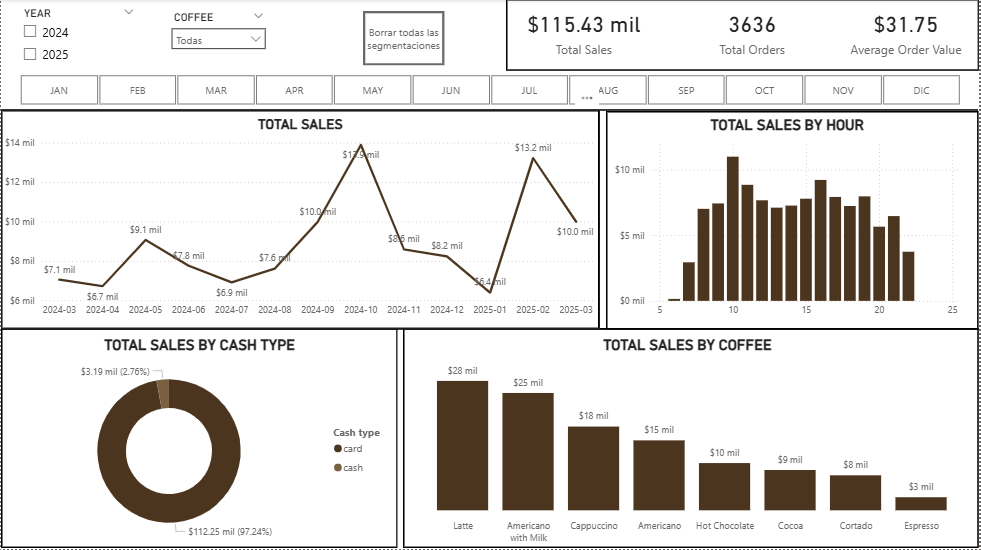

This screenshot's page, from the dashboard's own definition file:
{"tool":"powerbi","page":{"name":"Página 1","canvas":[1280,720],"ordinal":0},"visuals":[{"type":"card","fields":{"Values":["DateTable.Total Sales"]},"box":[675.1,0,175.1,82.6],"z":0},{"type":"card","fields":{"Values":["DateTable.Total Orders"]},"box":[910.3,0,147.2,82.6],"z":1000},{"type":"card","fields":{"Values":["DateTable.Average Order Value"]},"box":[1089,0,191.2,82.6],"z":2000},{"type":"lineChart","title":"TOTAL SALES","fields":{"Category":["DateTable.YearMonth"],"Y":["DateTable.Total Sales"]},"box":[0,152.7,783.5,271.4],"z":3000},{"type":"columnChart","title":"TOTAL SALES BY COFFEE","fields":{"Category":["cleaned_data.coffee_name"],"Y":["DateTable.Total Sales"]},"box":[518.9,440.8,760.4,279.2],"z":4000},{"type":"donutChart","title":"TOTAL SALES BY CASH TYPE","fields":{"Category":["cleaned_data.cash_type"],"Y":["DateTable.Total Sales"]},"box":[0,440.8,519.8,279.2],"z":5000},{"type":"clusteredColumnChart","title":"TOTAL SALES BY HOUR","fields":{"Category":["cleaned_data.hour"],"Y":["DateTable.Total Sales"]},"box":[799,152.6,461.4,272],"z":6000},{"type":"slicer","fields":{"Values":["cleaned_data.coffee_name"]},"box":[213.2,9.9,142.9,82.4],"z":7000},{"type":"shape","box":[791.8,146.2,487.8,286.5],"z":8000},{"type":"shape","box":[0,431.3,519.4,288.1],"z":9000},{"type":"slicer","fields":{"Values":["DateTable.Year"]},"box":[16.5,5.5,169.2,91.2],"z":10000},{"type":"slicer","fields":{"Values":["TablaMeses.MesAbreviado"]},"box":[0,93.4,1279.3,52.1],"z":11000},{"type":"shape","box":[0,422,1279.1,20.9],"z":12000},{"type":"shape","box":[0,135.2,1279.1,20.9],"z":13000},{"type":"shape","box":[660.6,0,619.4,94],"z":14000},{"type":"actionButton","box":[473.6,15.4,106.6,71.4],"z":15000},{"type":"shape","box":[526.9,431.3,753.7,288.1],"z":17000},{"type":"shape","box":[0,145.1,783.5,286.8],"z":22000}]}

Visuals, with their boxes in screenshot pixels (x1, y1, x2, y2), scaled from the page's 1280x720 canvas onto the 981x550 screenshot:
card - DateTable.Total Sales: Rect(517, 0, 652, 63)
card - DateTable.Total Orders: Rect(698, 0, 810, 63)
card - DateTable.Average Order Value: Rect(835, 0, 980, 63)
"TOTAL SALES" lineChart: Rect(0, 117, 600, 324)
"TOTAL SALES BY COFFEE" columnChart: Rect(398, 337, 980, 549)
"TOTAL SALES BY CASH TYPE" donutChart: Rect(0, 337, 398, 549)
"TOTAL SALES BY HOUR" clusteredColumnChart: Rect(612, 117, 966, 324)
slicer - cleaned_data.coffee_name: Rect(163, 8, 273, 71)
shape: Rect(607, 112, 980, 331)
shape: Rect(0, 329, 398, 549)
slicer - DateTable.Year: Rect(13, 4, 142, 74)
slicer - TablaMeses.MesAbreviado: Rect(0, 71, 980, 111)
shape: Rect(0, 322, 980, 338)
shape: Rect(0, 103, 980, 119)
shape: Rect(506, 0, 980, 72)
actionButton: Rect(363, 12, 445, 66)
shape: Rect(404, 329, 980, 549)
shape: Rect(0, 111, 600, 330)
